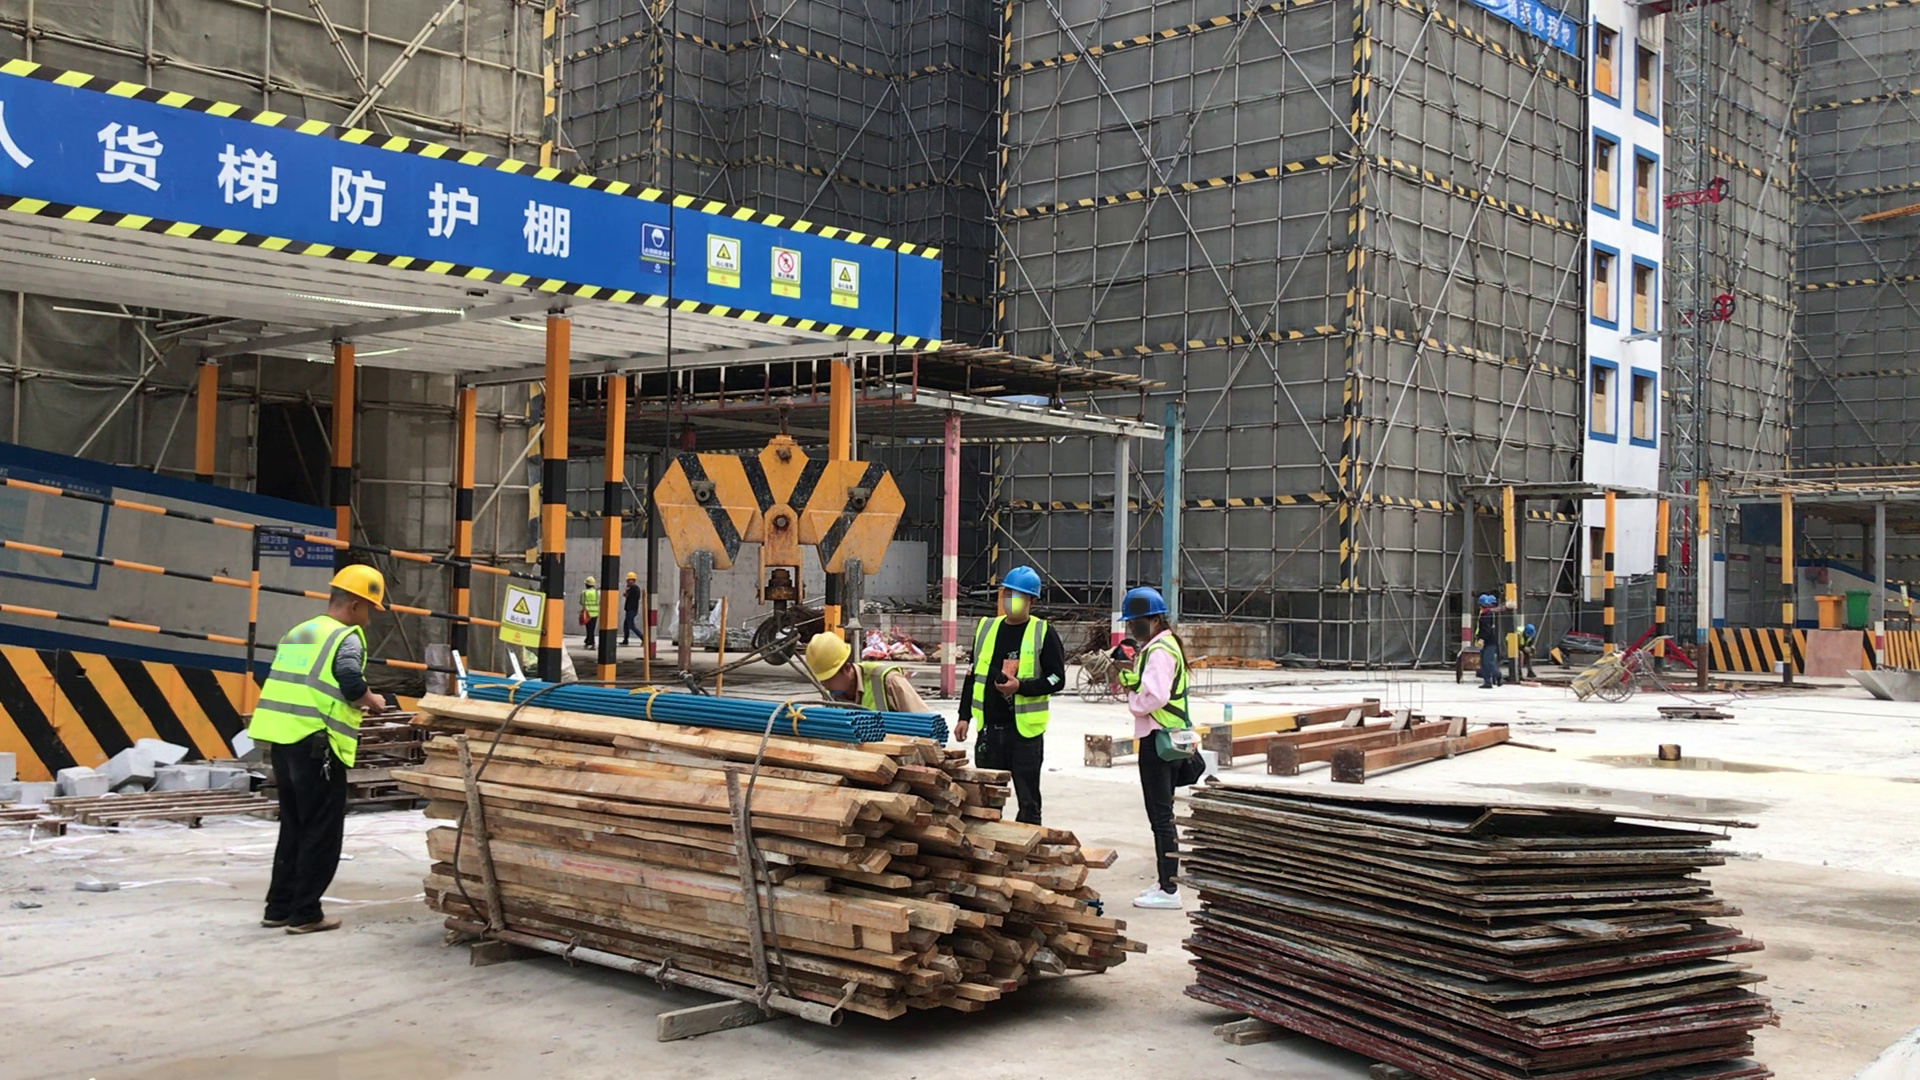helmet: (329, 565, 390, 613), (802, 630, 849, 684), (1117, 589, 1169, 620), (1000, 566, 1041, 596), (1476, 594, 1489, 609), (583, 576, 596, 589), (623, 571, 637, 583), (1525, 624, 1534, 638)
person: (238, 564, 397, 945), (1101, 574, 1214, 919), (951, 563, 1067, 831), (788, 627, 943, 728), (1474, 592, 1501, 691), (621, 567, 644, 650), (577, 573, 599, 653), (1517, 620, 1541, 681)
vest: (246, 612, 361, 759), (968, 615, 1050, 737), (1124, 633, 1188, 727), (844, 656, 904, 710), (579, 589, 598, 622)
